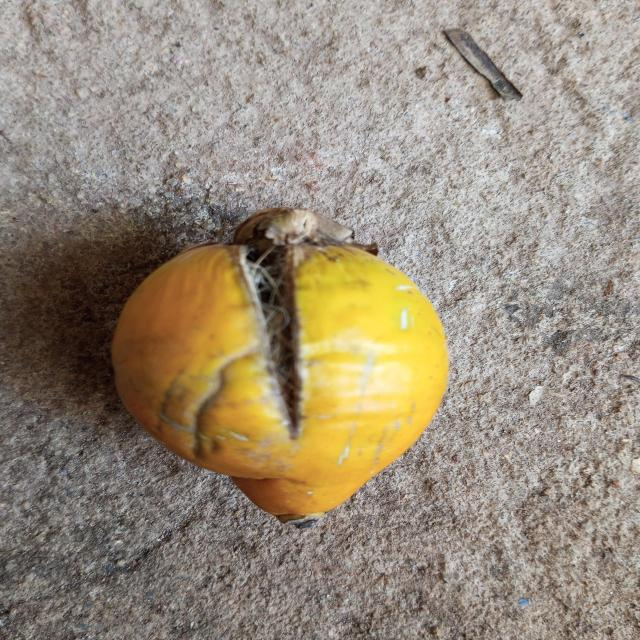damaged: (112, 207, 448, 528)
